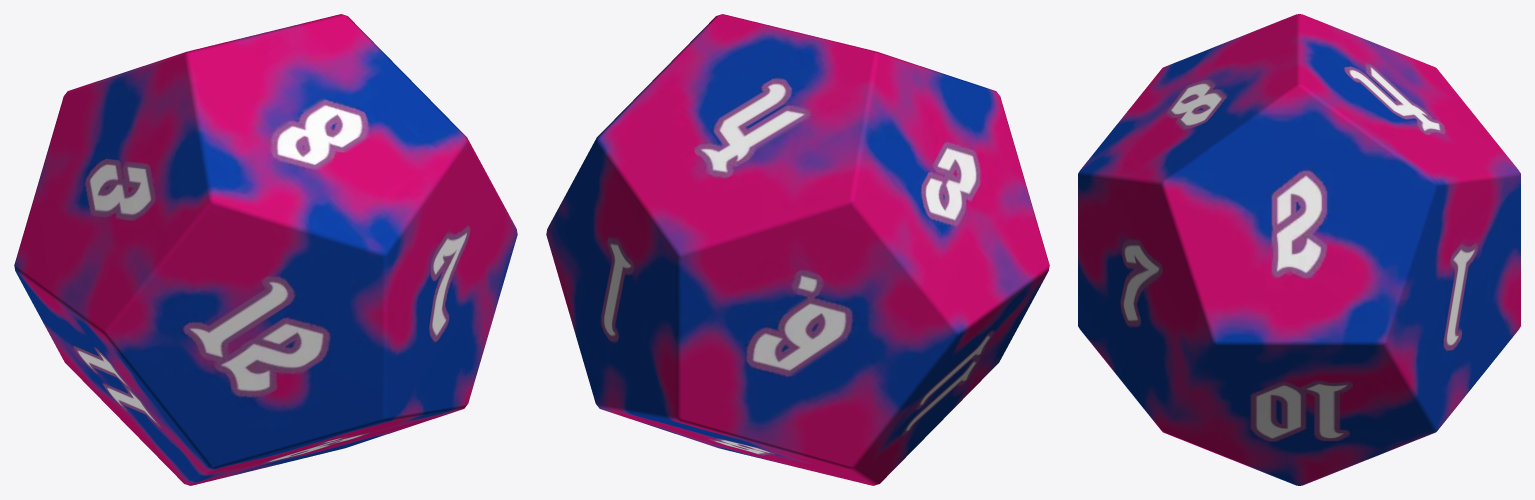
The picture shows the model from 3 angles, left to right: view 1: azimuth 30°, elevation 25°; view 2: azimuth 150°, elevation 25°; view 3: azimuth 270°, elevation 25°; orthographic projection. The views are drawn at different scales.
Parts seen in each view (by area): view 1: D12; view 2: D12; view 3: D12.
Boxes of the visible parts, <box> form: D12: <box>14,14,517,485</box>; D12: <box>546,14,1049,485</box>; D12: <box>1078,14,1520,485</box>.
Size of the model in its own units: 167 by 167 by 167.
1 material, 1 textured.
